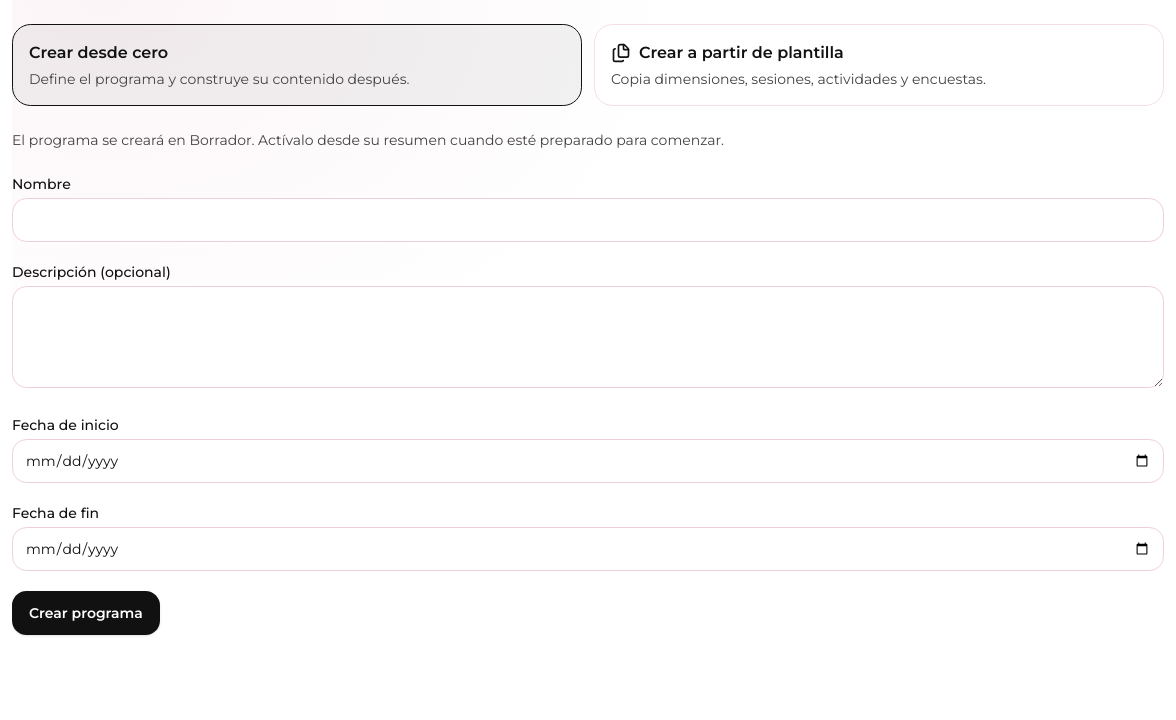
Test: creates within selected organization then shows returned data and detail link
Type "Programa real" into the field labelled "Nombre". click: point(588, 220)
box: [12, 198, 1164, 242]
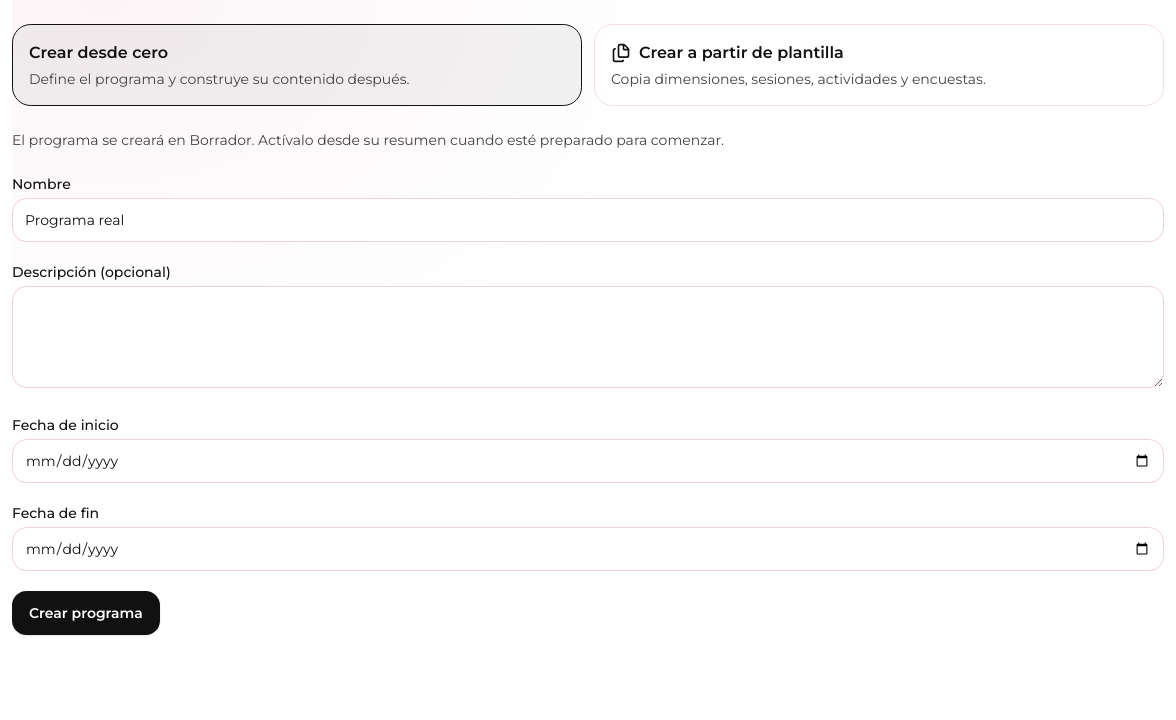
Type "2026-09-01" into the date field labelled "Fecha de inicio". click: point(588, 461)
box: [12, 439, 1164, 483]
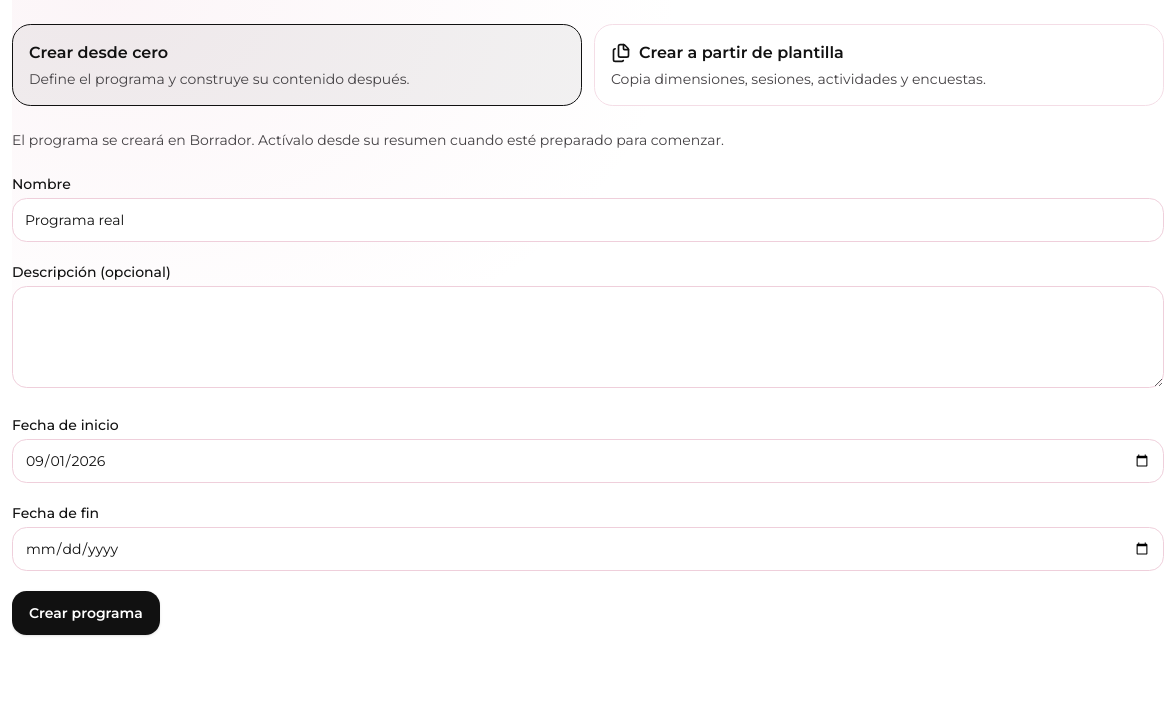
Type "2026-12-01" into the date field labelled "Fecha de fin". click: point(588, 549)
box: [12, 527, 1164, 571]
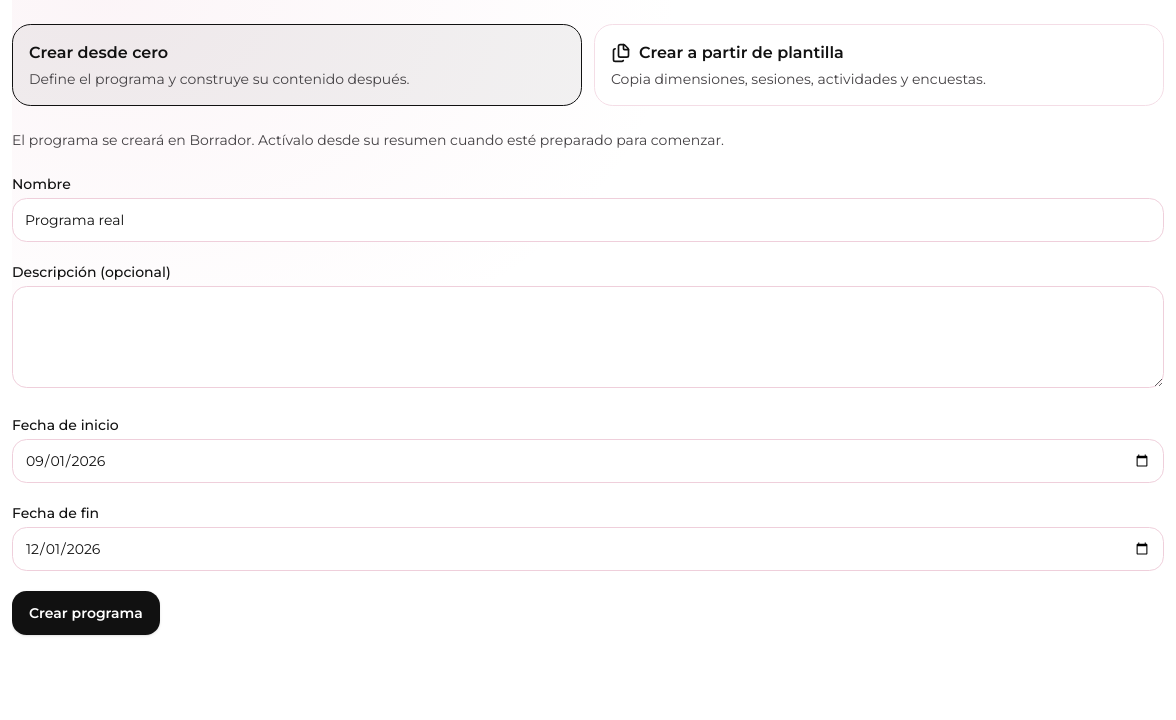
Submit the form
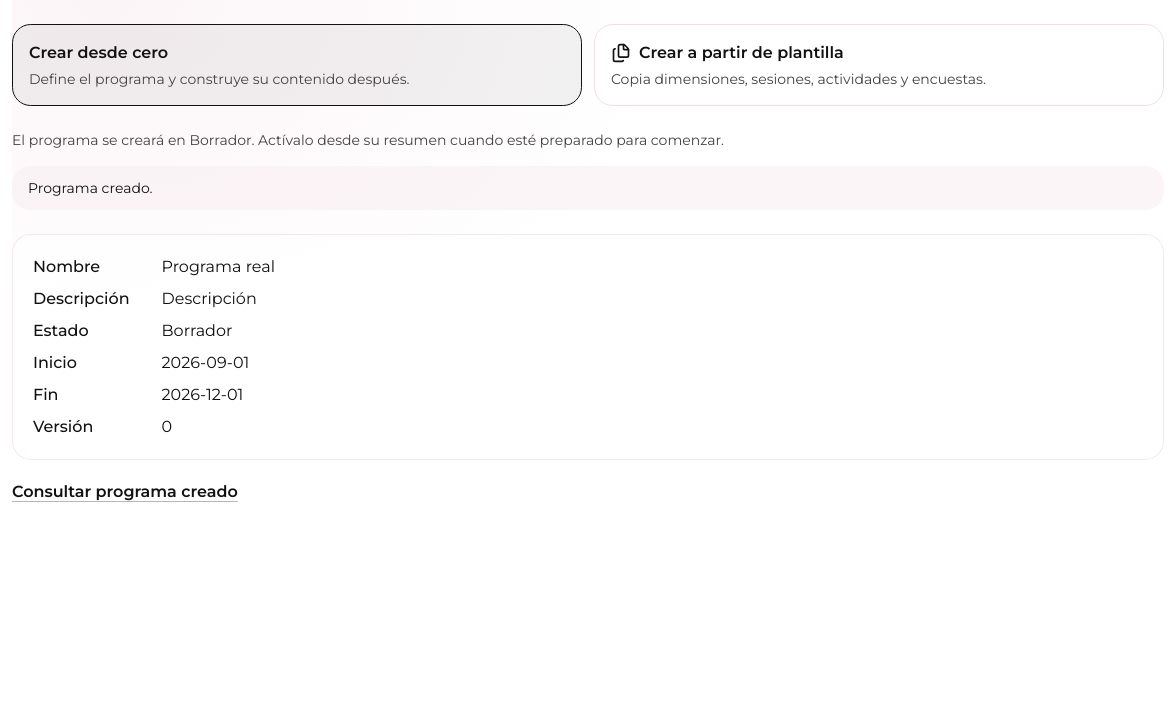
Check: the text "Programa creado." is shown, box [12, 166, 1164, 210]
